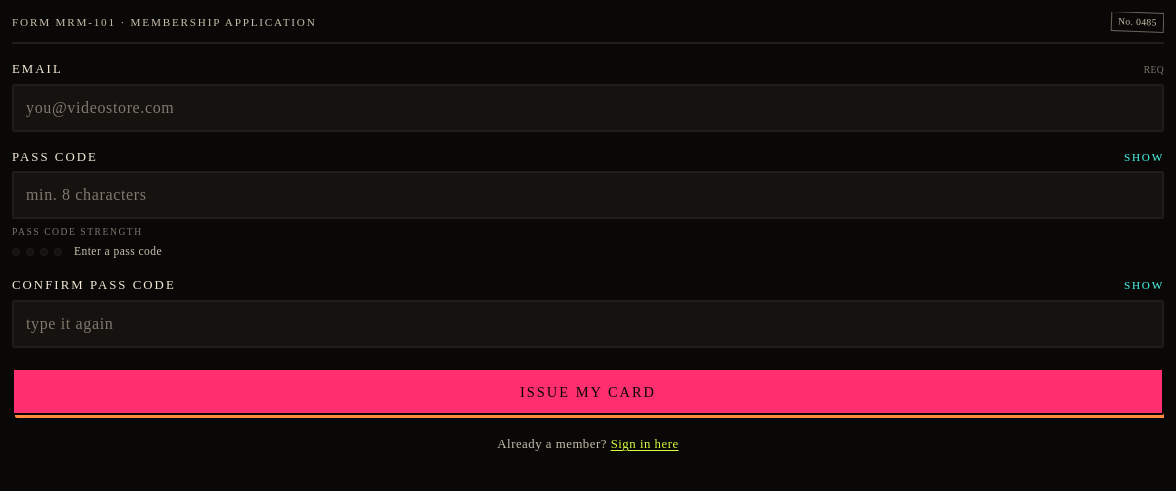
Test case: SignupForm › shows the pending/printing state while the signUp action is in flight
Type "newuser@example.com" into the field labelled "Email REQ".
click(588, 108); type("newuser@example.com")  # box [12,84,1164,132]
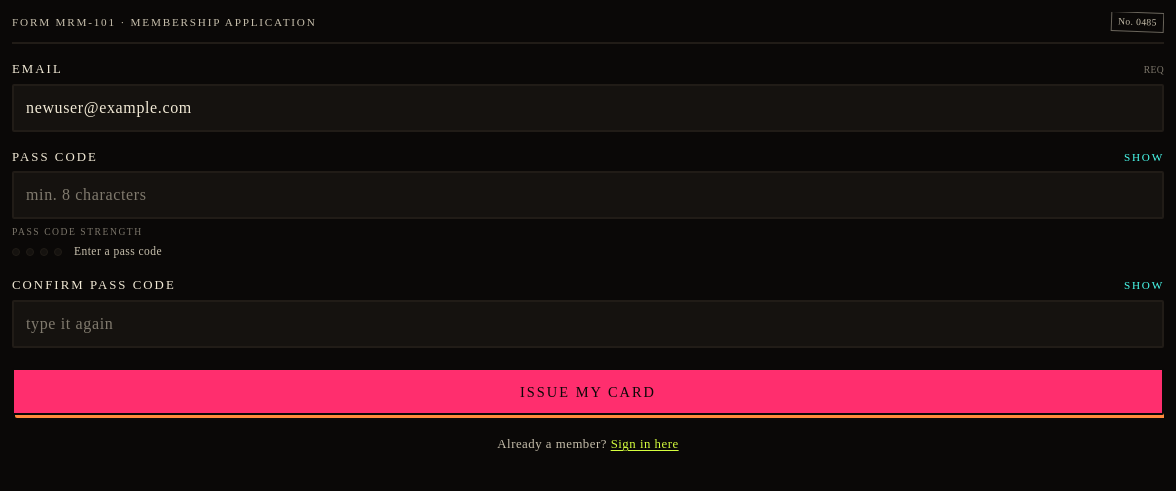
Type "password123" into the password field labelled "Pass code".
click(588, 195); type("password123")  # box [12,171,1164,219]
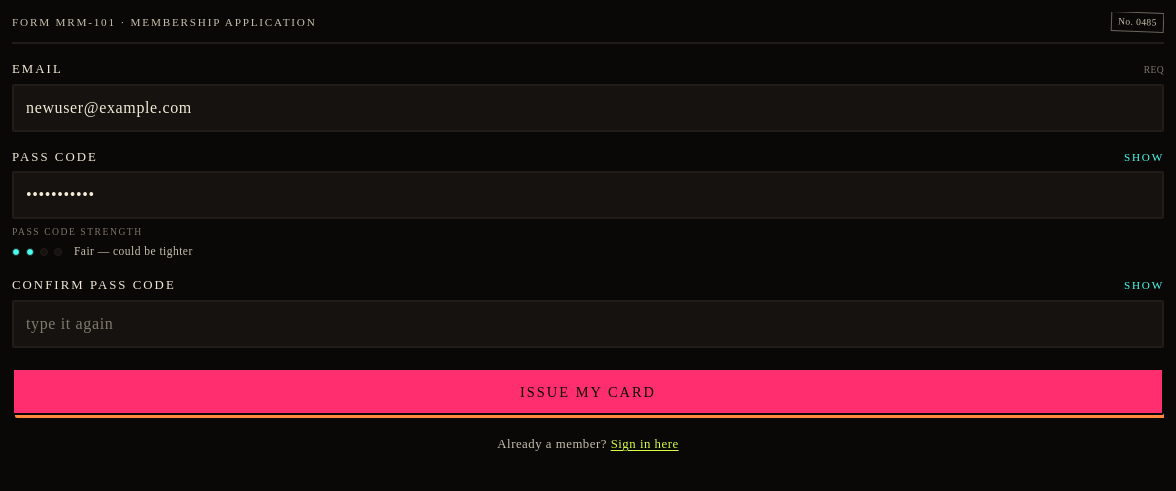
Type "password123" into the password field labelled "Confirm pass code".
click(588, 324); type("password123")  # box [12,300,1164,348]
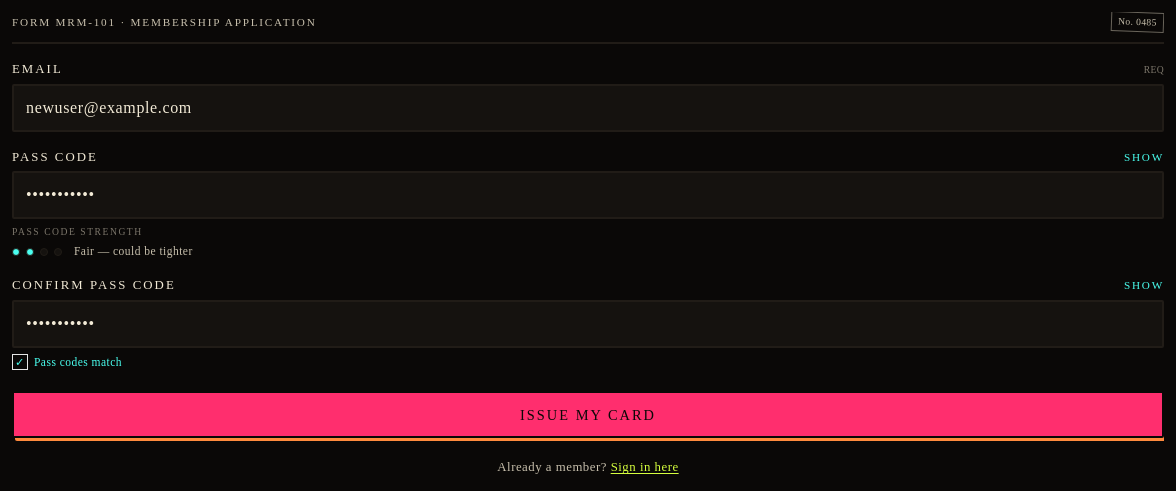
Click the button "Issue my card".
click(588, 415)  # box [12,391,1164,438]
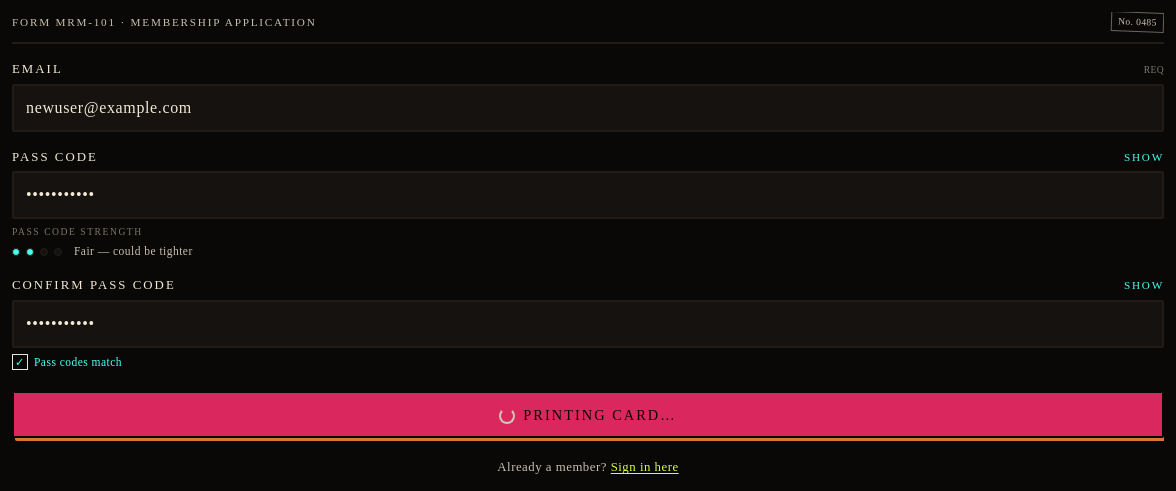
Expected: the button "Printing card…" is disabled, [12,391,1164,438]
Expected: the button "Printing card…" is shown, [12,391,1164,438]
Expected: the button "Printing card…" no longer shows "Issue my card", [12,391,1164,438]
